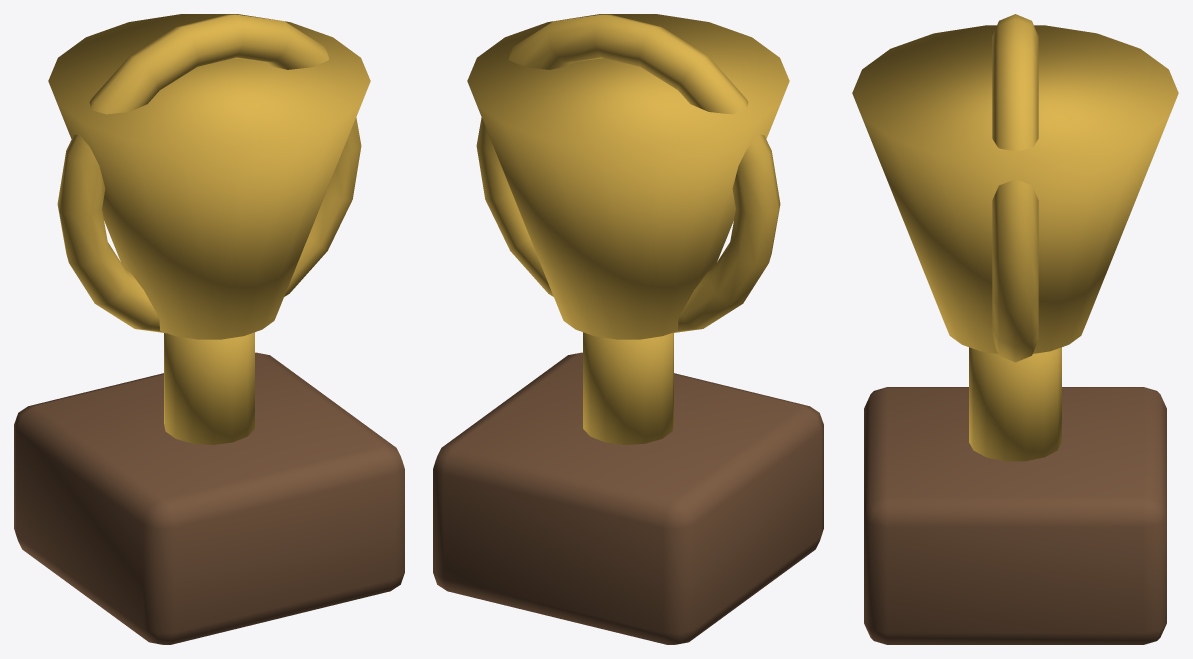
Rendered from Decor_Trophy.fbx.
3 renders of one model, left to right at view 1: azimuth 30°, elevation 25°; view 2: azimuth 150°, elevation 25°; view 3: azimuth 270°, elevation 25°, orthographic.
Parts seen in each view (by area): view 1: Trophy_Pedestal, Trophy_Cup, Trophy_Handles, Trophy_Stem; view 2: Trophy_Pedestal, Trophy_Cup, Trophy_Handles, Trophy_Stem; view 3: Trophy_Pedestal, Trophy_Cup, Trophy_Handles, Trophy_Stem.
Boxes of the visible parts, x1,y1,x2,y2 form: Trophy_Pedestal: (14,352,404,644); Trophy_Cup: (48,14,370,339); Trophy_Handles: (57,14,361,333); Trophy_Stem: (164,332,254,444); Trophy_Pedestal: (433,352,823,644); Trophy_Cup: (467,14,789,339); Trophy_Handles: (476,14,780,333); Trophy_Stem: (583,332,673,444); Trophy_Pedestal: (864,387,1166,644); Trophy_Cup: (852,25,1178,353); Trophy_Handles: (992,14,1038,362); Trophy_Stem: (969,347,1061,461).
Size of the model in its own units: 3 by 5.28 by 2.8.
